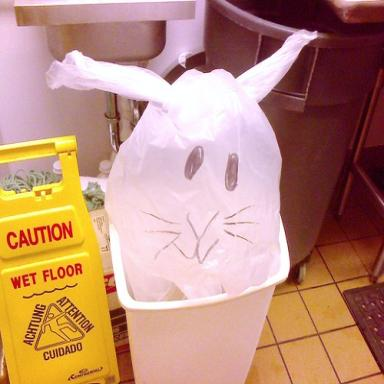plasticbag: (100, 31, 286, 304)
